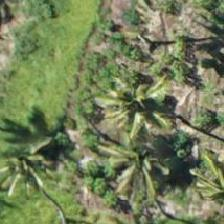coconut_tree: (92, 114, 182, 204), (176, 145, 223, 223)
